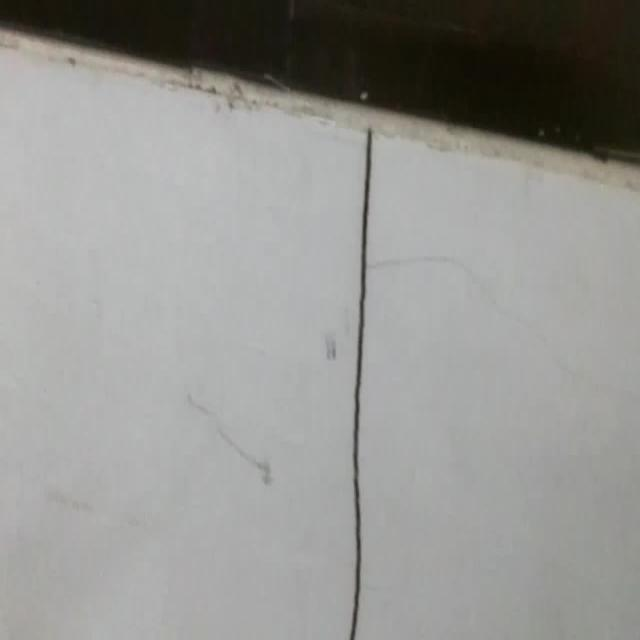Crack: (308, 122, 390, 640), (372, 222, 584, 382)
